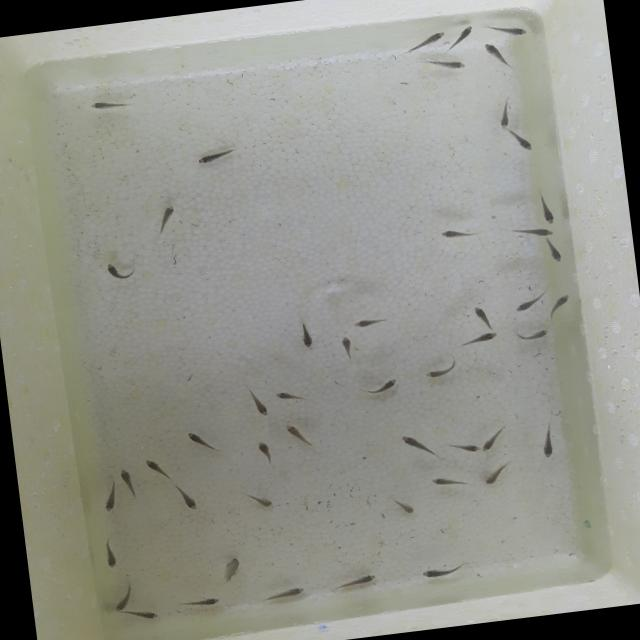fingerling: (398, 429, 442, 465), (333, 570, 383, 596), (399, 29, 448, 55), (418, 53, 470, 77), (359, 372, 402, 401), (150, 201, 182, 239), (108, 578, 142, 612), (170, 477, 202, 513), (481, 18, 527, 42), (453, 328, 502, 350), (256, 584, 312, 603), (482, 39, 514, 72), (191, 146, 243, 166), (282, 419, 314, 451), (237, 484, 276, 510), (87, 94, 135, 115), (510, 290, 548, 316), (421, 358, 464, 380), (101, 258, 140, 282), (478, 423, 508, 454), (509, 323, 550, 345), (467, 300, 495, 332), (177, 594, 224, 613), (184, 427, 217, 454), (418, 564, 467, 582), (428, 472, 472, 492), (98, 473, 120, 513), (542, 292, 573, 320), (217, 554, 244, 586), (530, 191, 556, 224), (98, 540, 124, 572), (494, 94, 516, 130), (118, 466, 138, 504), (142, 455, 170, 482), (480, 462, 510, 487), (347, 314, 391, 331), (443, 439, 482, 458), (542, 238, 566, 268), (536, 426, 557, 460), (388, 494, 417, 517), (510, 129, 536, 154), (447, 24, 476, 46), (250, 392, 272, 420), (438, 224, 476, 240), (256, 438, 276, 468), (296, 318, 314, 351), (126, 608, 162, 624), (522, 224, 556, 239), (273, 388, 304, 403), (338, 333, 353, 362)
